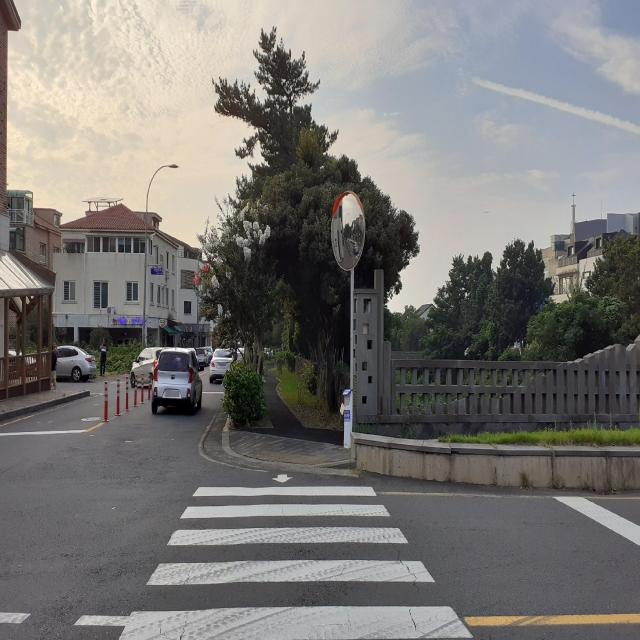횡단보도: (118, 474, 474, 640)
